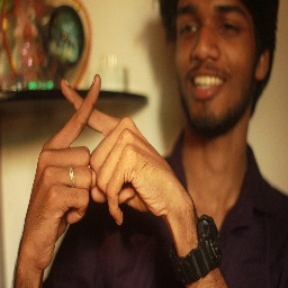X: (33, 63, 144, 170)
